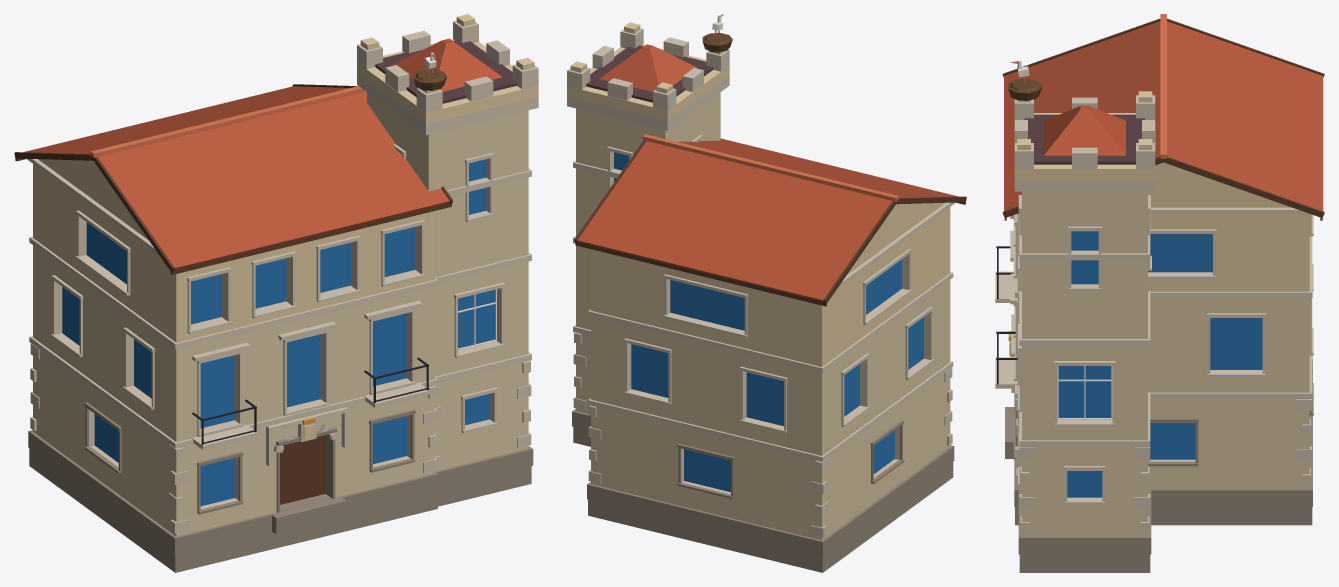
File: 06_casco_palace-lod1.glb
3 renders of one model, left to right at view 1: azimuth 30°, elevation 25°; view 2: azimuth 150°, elevation 25°; view 3: azimuth 270°, elevation 25°, orthographic. The views are drawn at different scales.
Visible parts, largest first — view 1: PalacioCasco_LOD1; view 2: PalacioCasco_LOD1; view 3: PalacioCasco_LOD1.
Part boxes in pixels (left/top/right/bottom): PalacioCasco_LOD1: left=14, top=14, right=538, bottom=572; PalacioCasco_LOD1: left=567, top=14, right=966, bottom=572; PalacioCasco_LOD1: left=995, top=14, right=1324, bottom=572.
Bounding box in the file's own units: 15.32 × 17.84 × 11.51.
2 materials, 2 textured.
